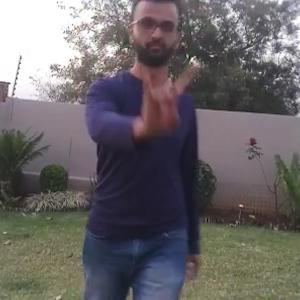takeoff-hand: (127, 60, 208, 149)
